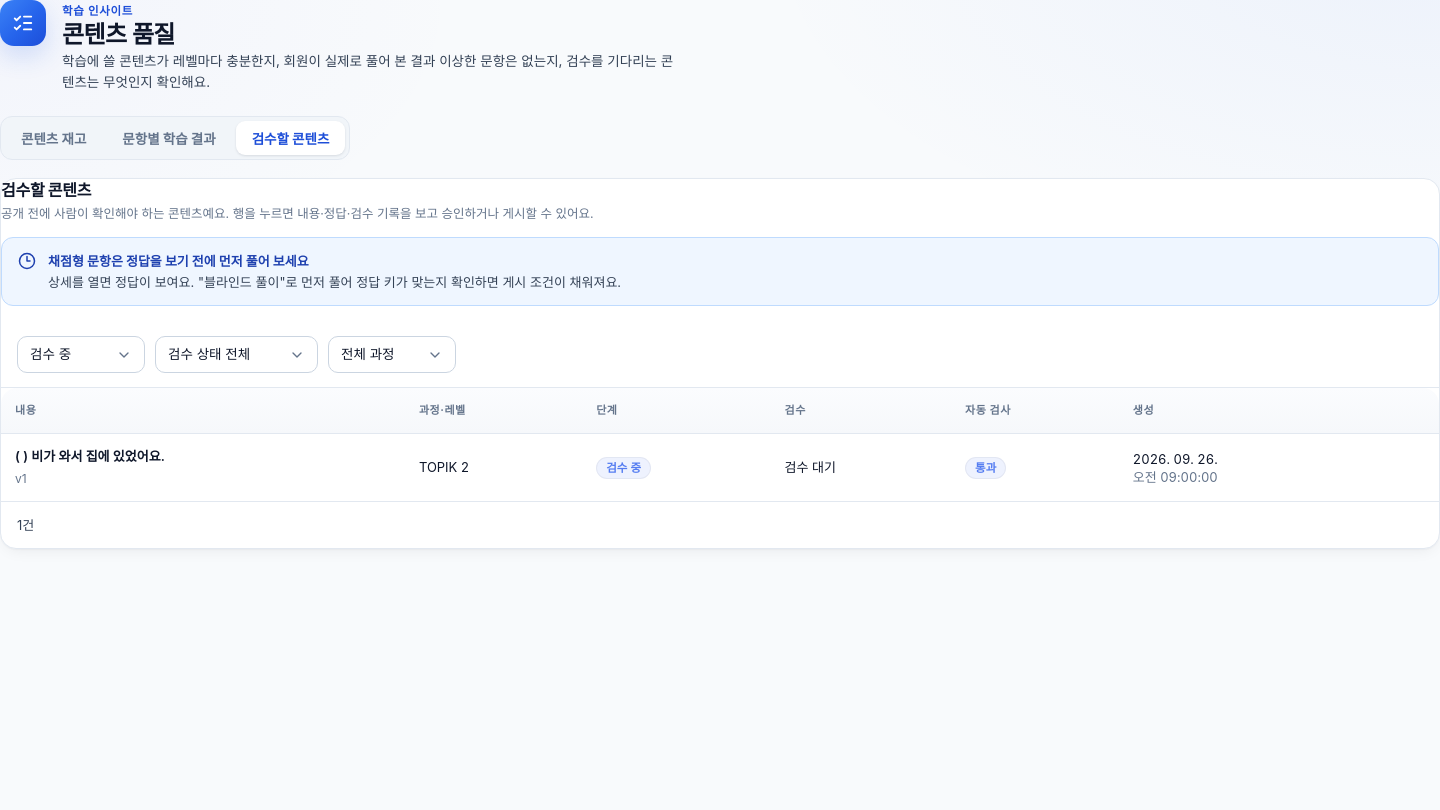
Scenario: ContentQualityPage › hides publish without content:publish
The image size is (1440, 810).
Click the text "( ) 비가 와서 집에 있었어요.".
click(90, 456)  # box left=15, top=448, right=165, bottom=464
(page scrolled)
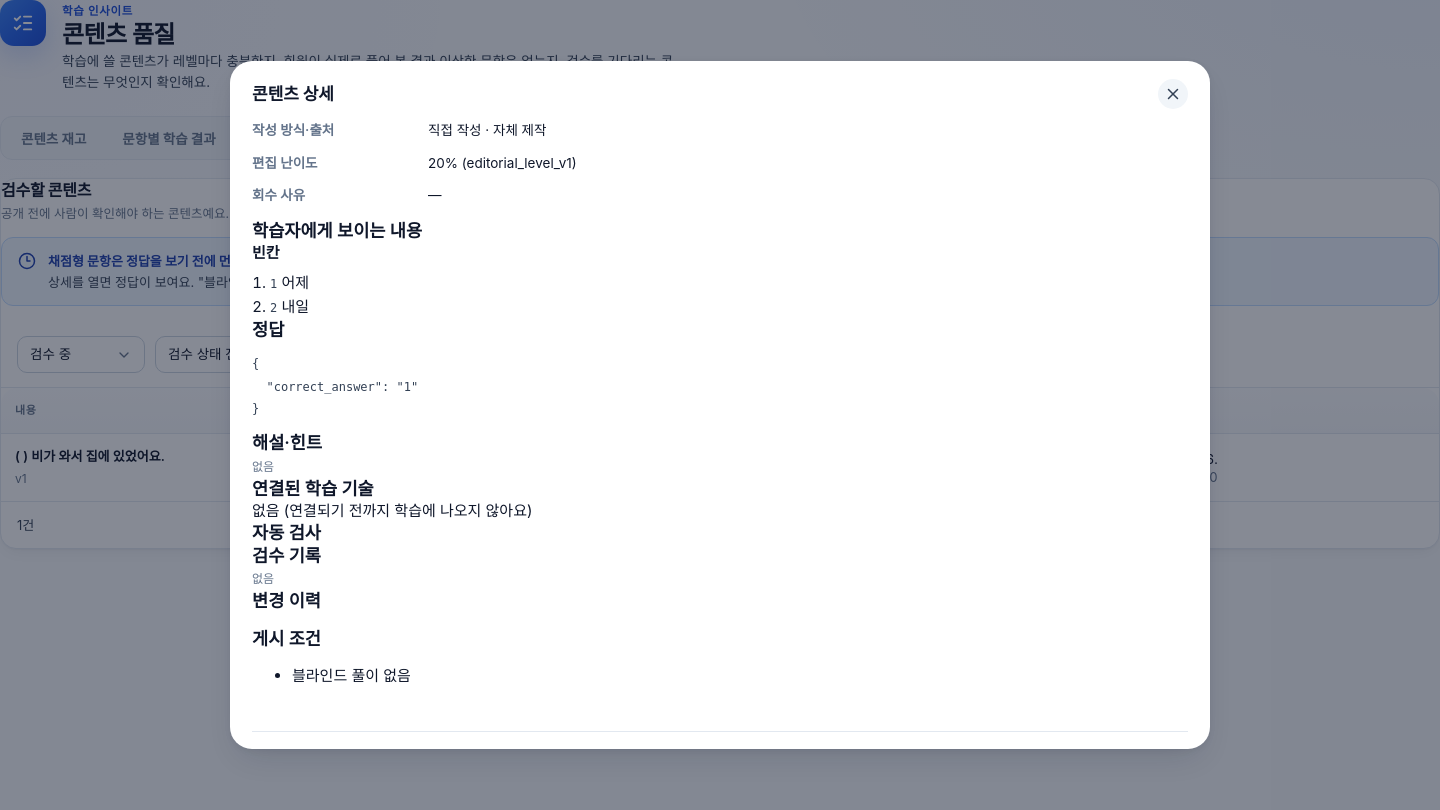
Expected: the list item "블라인드 풀이 없음" is shown, left=292, top=666, right=411, bottom=685
